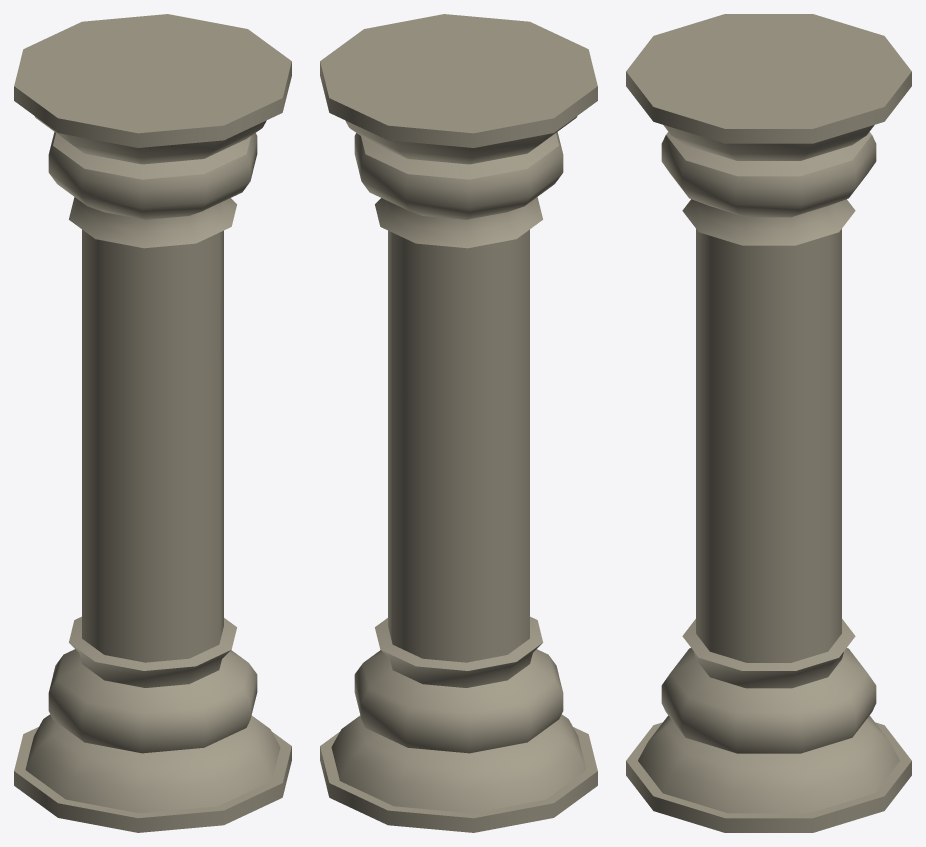
Rendered from Column Round 2.glb.
The picture shows the model from 3 angles, left to right: view 1: azimuth 30°, elevation 25°; view 2: azimuth 150°, elevation 25°; view 3: azimuth 270°, elevation 25°; orthographic projection.
Visible parts, largest first — view 1: Column_Round2_Cylinder.058; view 2: Column_Round2_Cylinder.058; view 3: Column_Round2_Cylinder.058.
Boxes of the visible parts, <box> form: Column_Round2_Cylinder.058: <box>14,14,291,832</box>; Column_Round2_Cylinder.058: <box>320,14,597,832</box>; Column_Round2_Cylinder.058: <box>626,14,911,832</box>.
Size of the model in its own units: 1.4 by 4 by 1.47.
